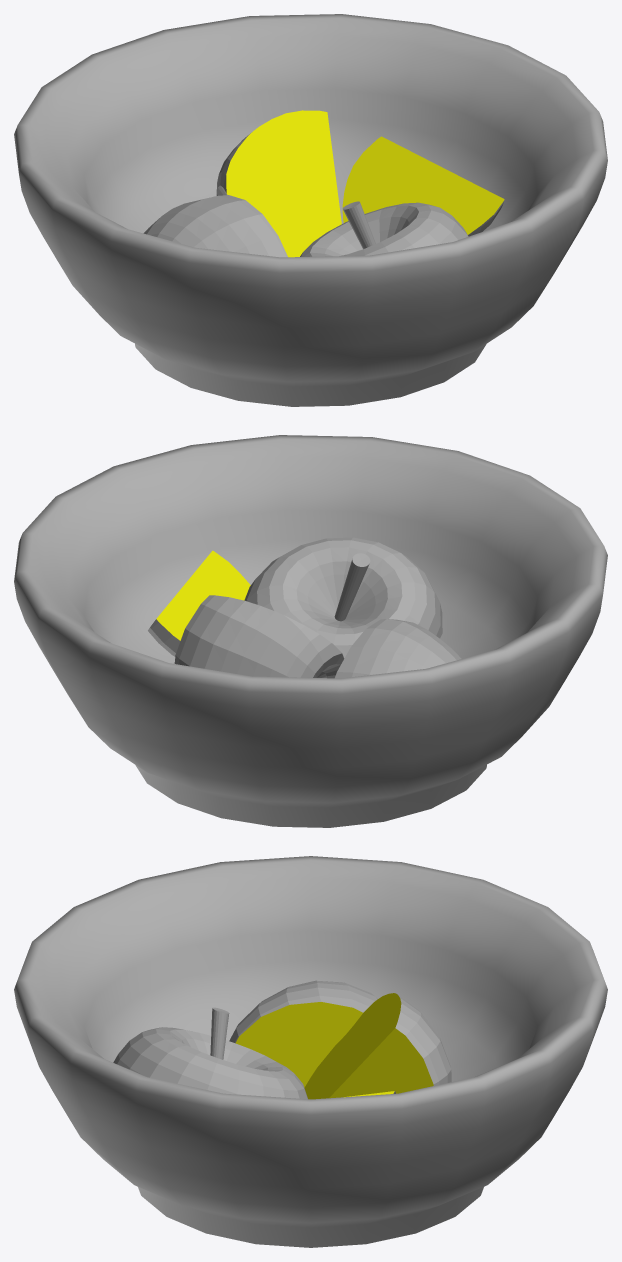
The model's file is CutAppleInBowl.fbx.
The picture shows the model from 3 angles, top to bottom: view 1: azimuth 30°, elevation 25°; view 2: azimuth 150°, elevation 25°; view 3: azimuth 270°, elevation 25°; orthographic projection.
Visible parts, largest first — view 1: cuenco, shard11, shard8, shard9, shard10; view 2: cuenco, shard9, shard11, shard10, shard8; view 3: cuenco, shard11, shard9, shard10.
Boxes of the visible parts, x1,y1,x2,y2 form: cuenco: (14, 14, 607, 406); shard11: (216, 110, 341, 257); shard8: (342, 136, 504, 236); shard9: (300, 201, 468, 256); shard10: (143, 195, 287, 257); cuenco: (14, 435, 607, 827); shard9: (244, 537, 442, 658); shard11: (174, 595, 344, 678); shard10: (335, 619, 461, 678); shard8: (148, 550, 250, 656); cuenco: (14, 856, 607, 1247); shard11: (304, 993, 451, 1099); shard9: (113, 1007, 307, 1099); shard10: (229, 980, 377, 1087).
Bounding box in the file's own units: 44.38 × 16.08 × 44.38.
